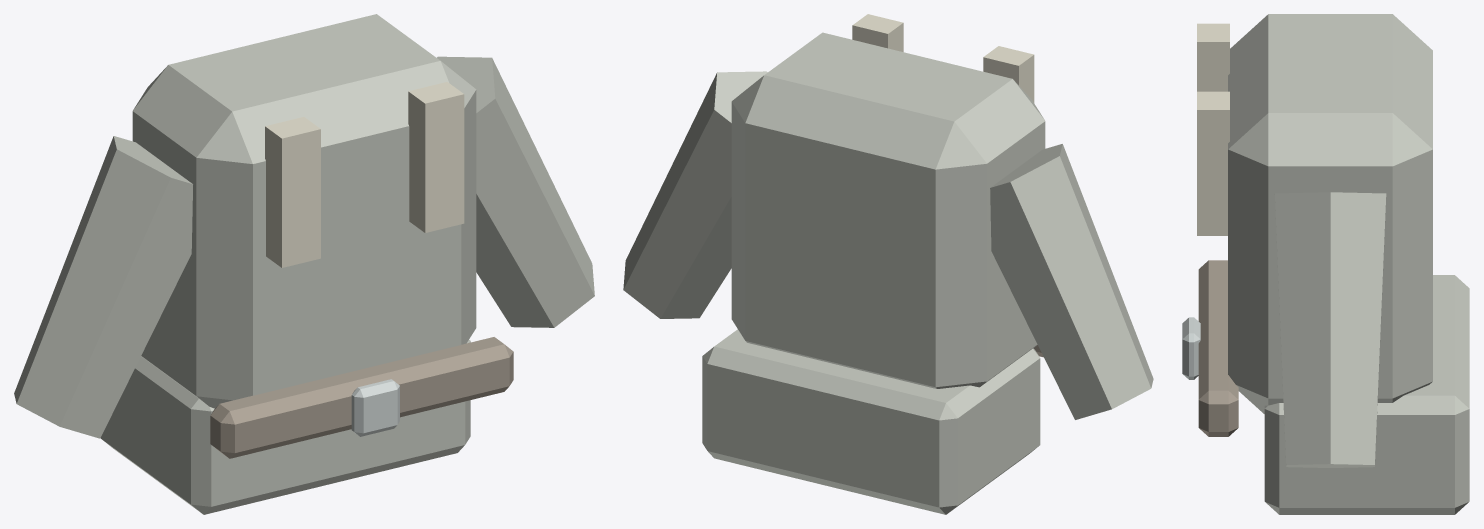
The model's file is SM_NPC_Top_03_Recorder.glb.
3 views of the same model, side by side, from view 1: azimuth 30°, elevation 25°; view 2: azimuth 150°, elevation 25°; view 3: azimuth 270°, elevation 25° (orthographic). The views are drawn at different scales.
Parts seen in each view (by area): view 1: SM_NPC_Top_03_Recorder; view 2: SM_NPC_Top_03_Recorder; view 3: SM_NPC_Top_03_Recorder.
Boxes of the visible parts, x1,y1,x2,y2 form: SM_NPC_Top_03_Recorder: (14,14,594,514); SM_NPC_Top_03_Recorder: (623,14,1153,514); SM_NPC_Top_03_Recorder: (1182,14,1469,514).
Bounding box in the file's own units: 0.8845 × 0.59 × 0.3925.
